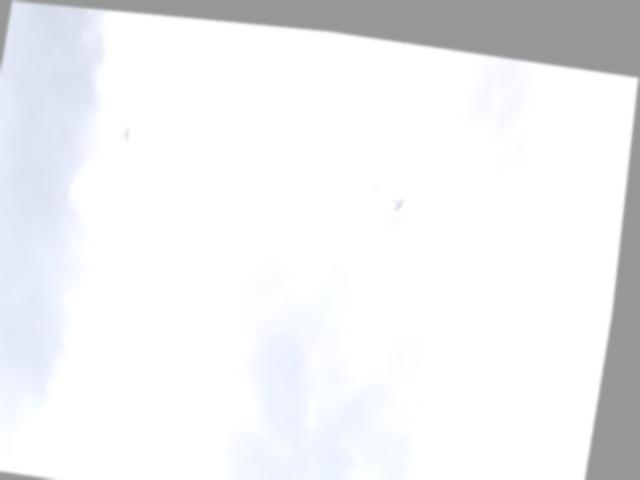uav: (120, 117, 135, 144), (395, 186, 411, 207)
